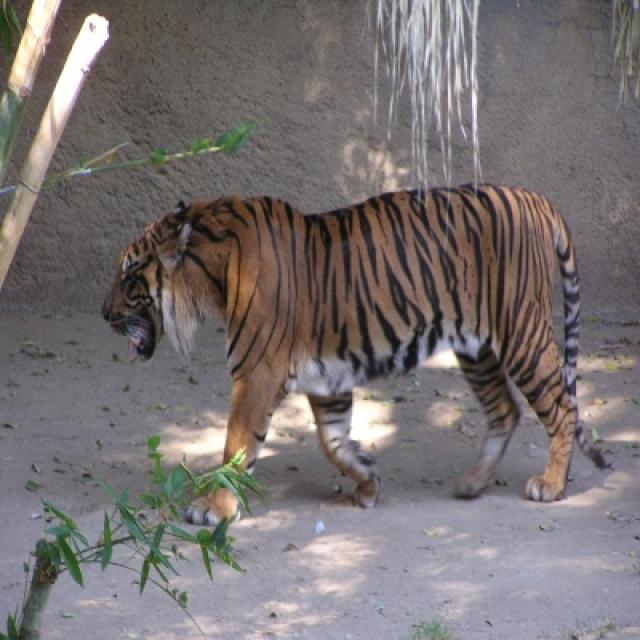Tiger: (102, 184, 605, 506)
